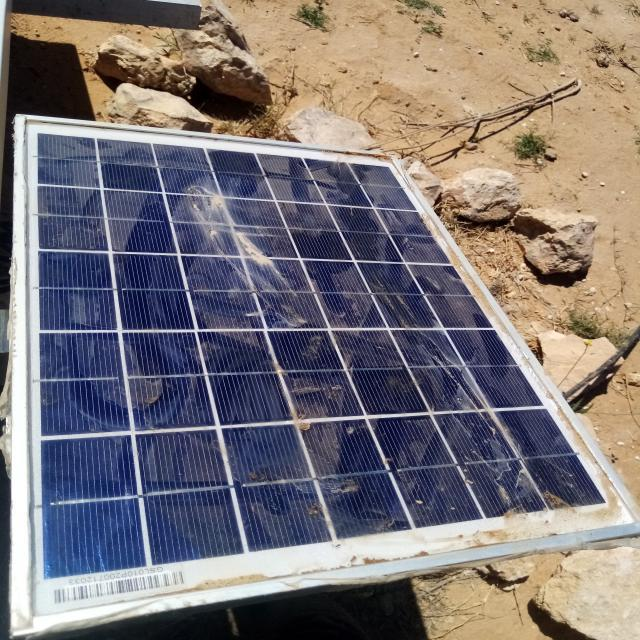faulty: (23, 118, 640, 625)
